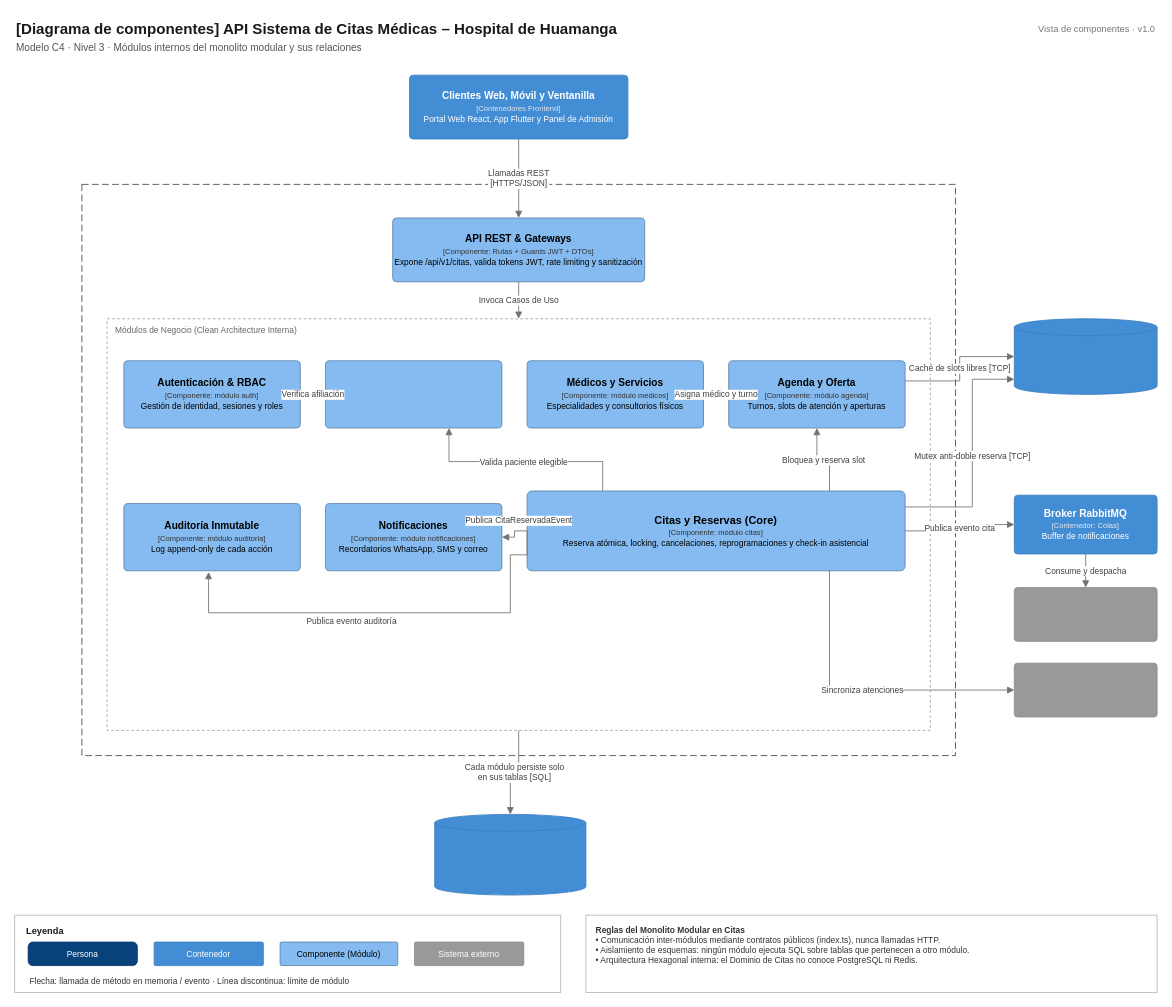
The diagram is 1172 pixels wide and 1007 high, and some of its shapes have lost their labels. The box of each missing label's shape, as (x1, y1, x2, y2) in pixels:
API Sistema de Citas Médicas [Contenedor: Node.js + NestJS · Monolito Modular]: (81, 184, 956, 756)
Base de Datos [Contenedor: PostgreSQL] Tablas aisladas por módulo: (434, 814, 586, 895)
Caché & Locks [Contenedor: Redis] Slots y Distributed Locks: (1013, 318, 1157, 394)
HIS MINSA [Sistema externo] Estadísticas MINSA: (1013, 662, 1157, 717)
Pacientes [Componente: módulo pacientes] Filiación DNI y aseguramiento SIS: (325, 360, 502, 428)
WhatsApp / SMS [Sistema externo] Envío multicanal: (1013, 587, 1157, 641)
